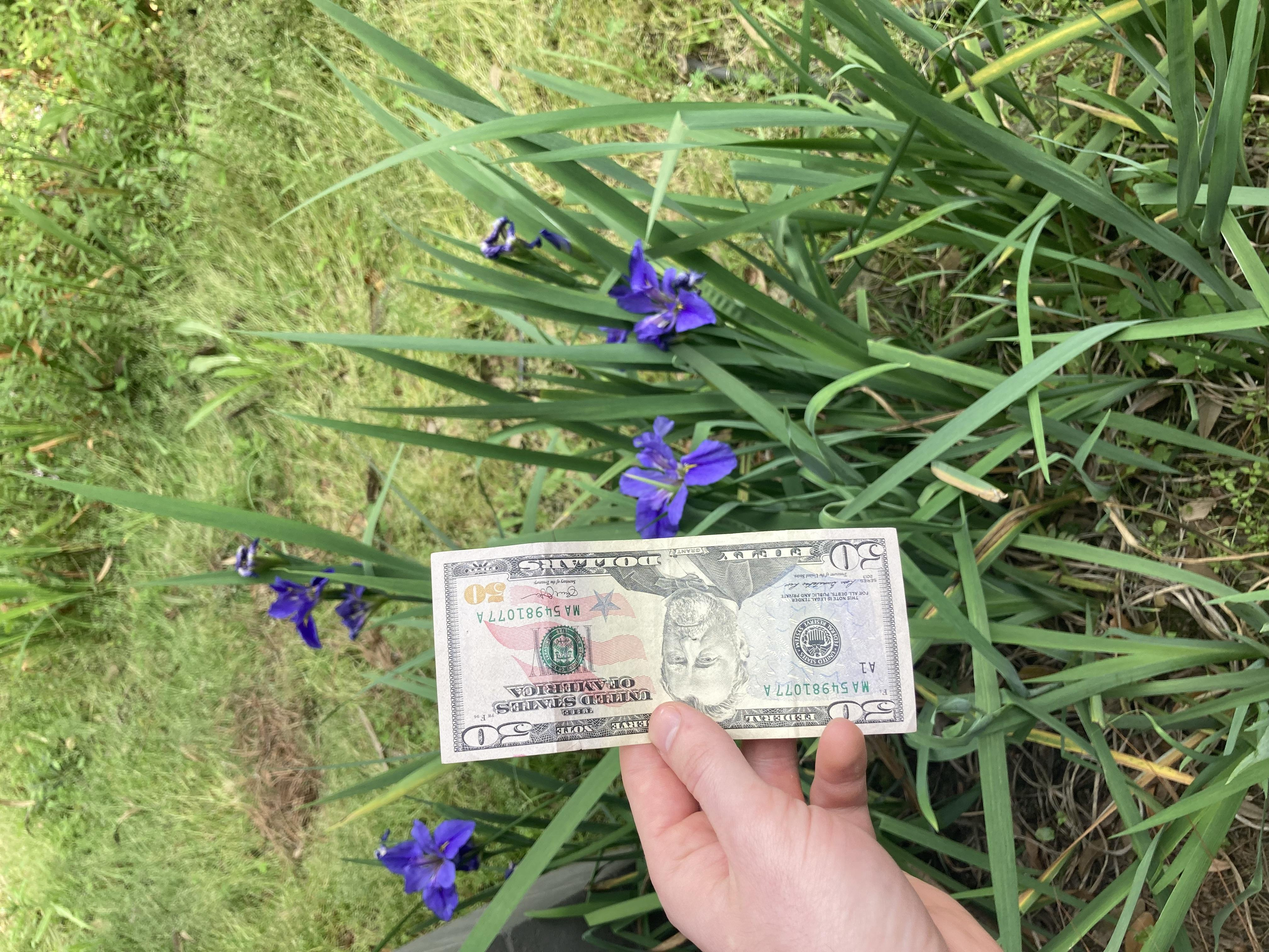fifty-front: (249, 323, 571, 688)
